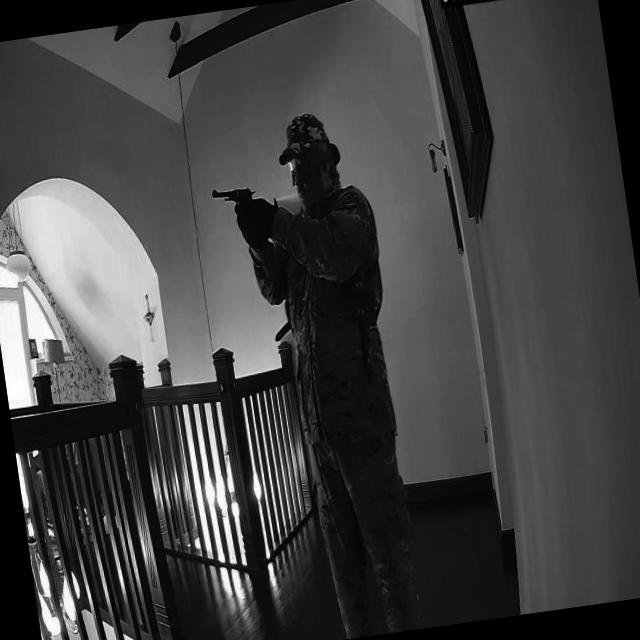gun: (208, 180, 262, 227)
person with a gun: (198, 103, 428, 640)
